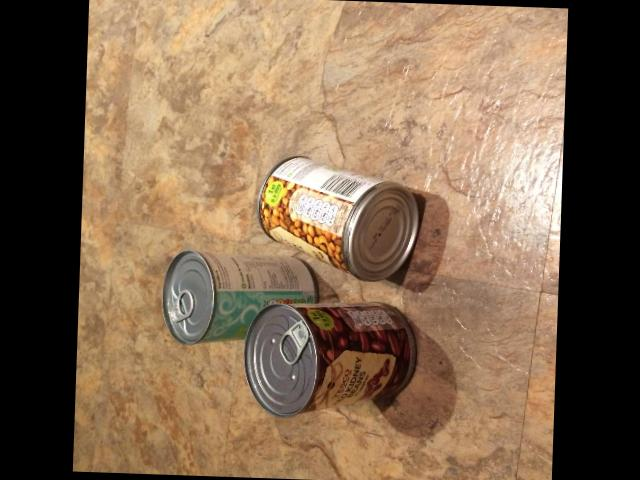metal: (257, 158, 417, 281), (243, 303, 414, 418), (161, 250, 317, 345)
